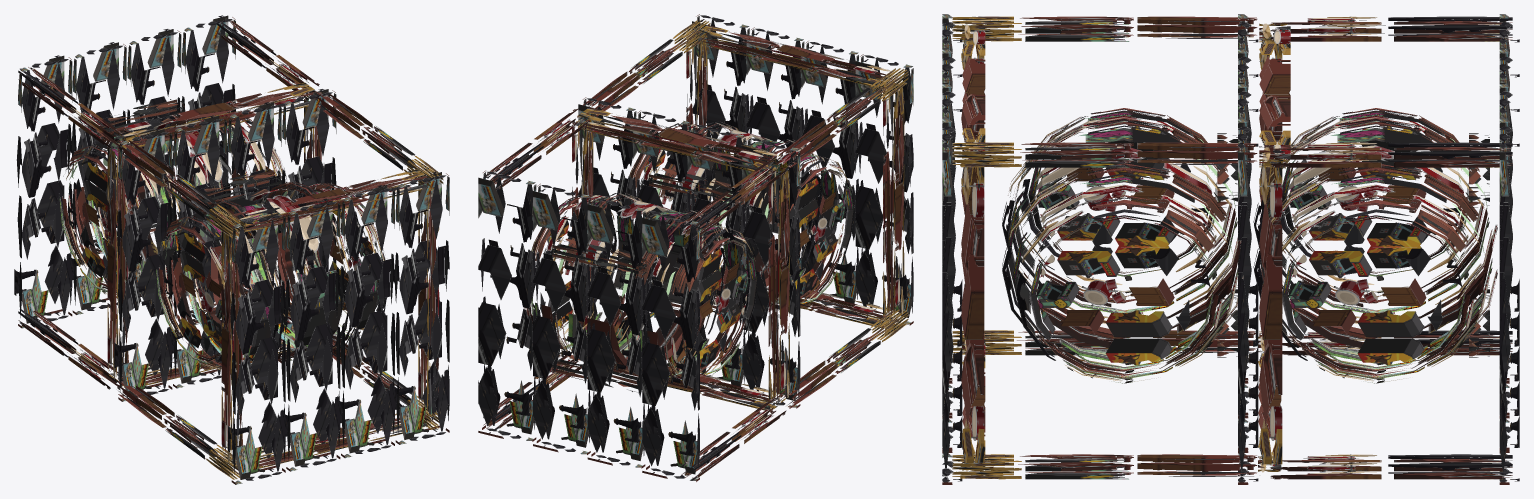
The picture shows the model from 3 angles, left to right: view 1: azimuth 30°, elevation 25°; view 2: azimuth 150°, elevation 25°; view 3: azimuth 270°, elevation 25°; orthographic projection. The views are drawn at different scales.
Bounding box in the file's own units: 0.96 × 1.1 × 1.72.
